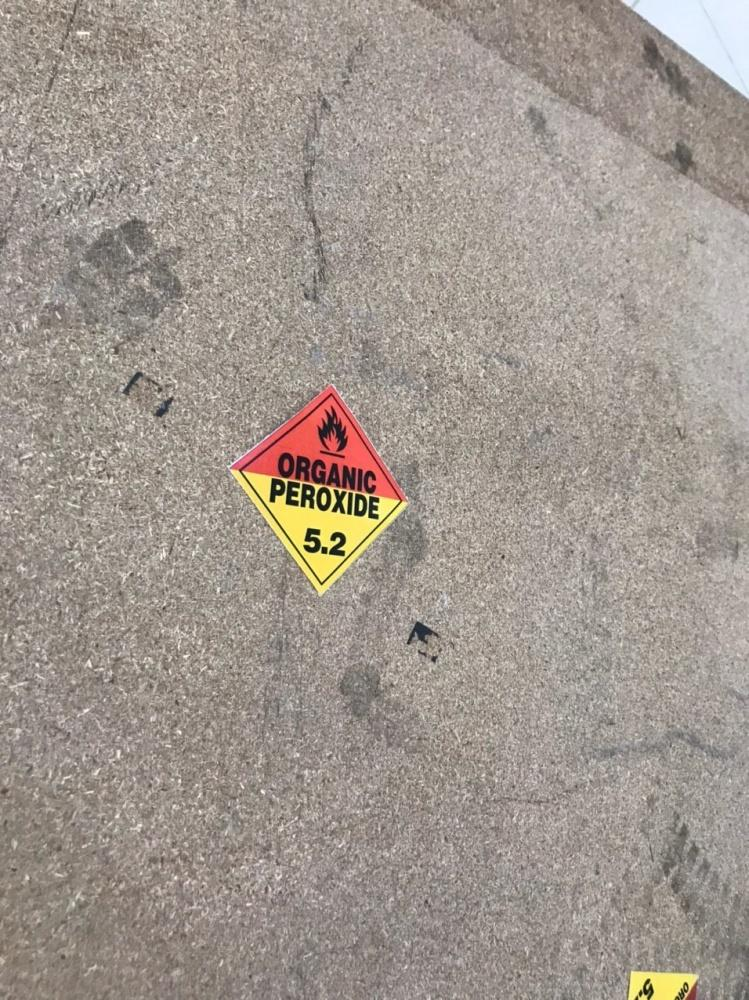organic-peroxide: (229, 389, 407, 593)
